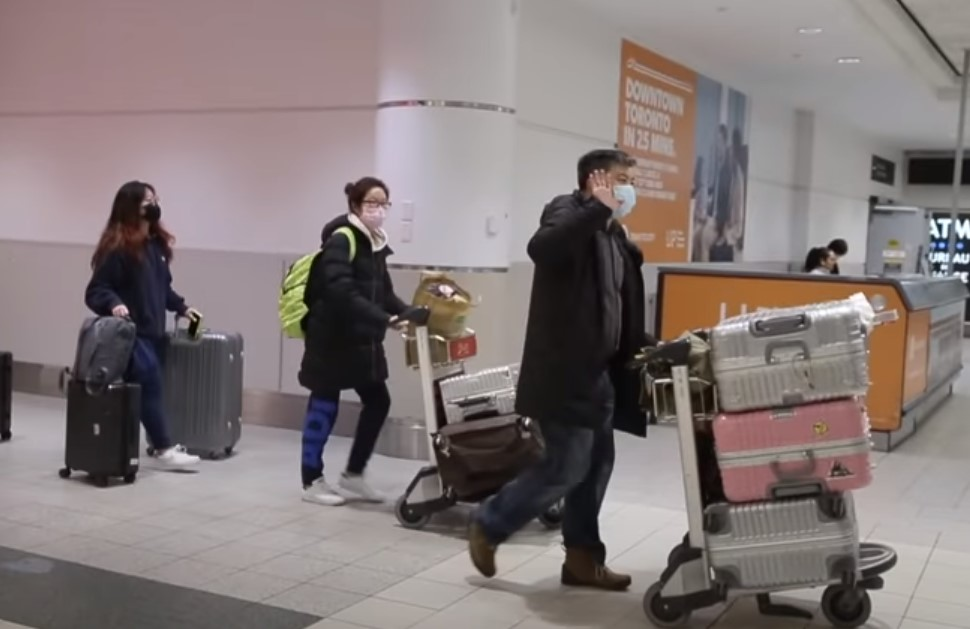face_with_mask: (578, 149, 637, 222), (347, 177, 392, 232), (113, 181, 161, 230)
